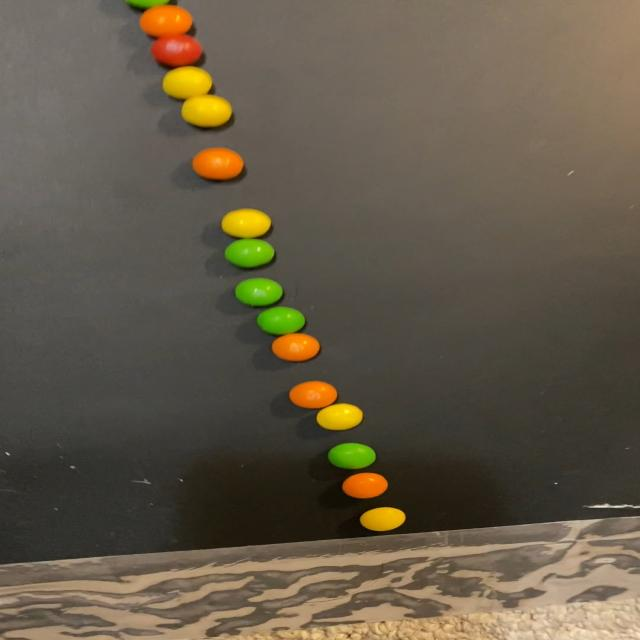smartie: (191, 147, 243, 180), (150, 33, 201, 66), (180, 94, 231, 127), (139, 4, 191, 36), (161, 65, 211, 98), (220, 208, 270, 238), (224, 239, 274, 268), (256, 307, 305, 336), (271, 333, 319, 362), (288, 381, 337, 409), (234, 278, 282, 306), (327, 444, 376, 470), (316, 404, 363, 431), (341, 473, 388, 499), (360, 508, 405, 532)
